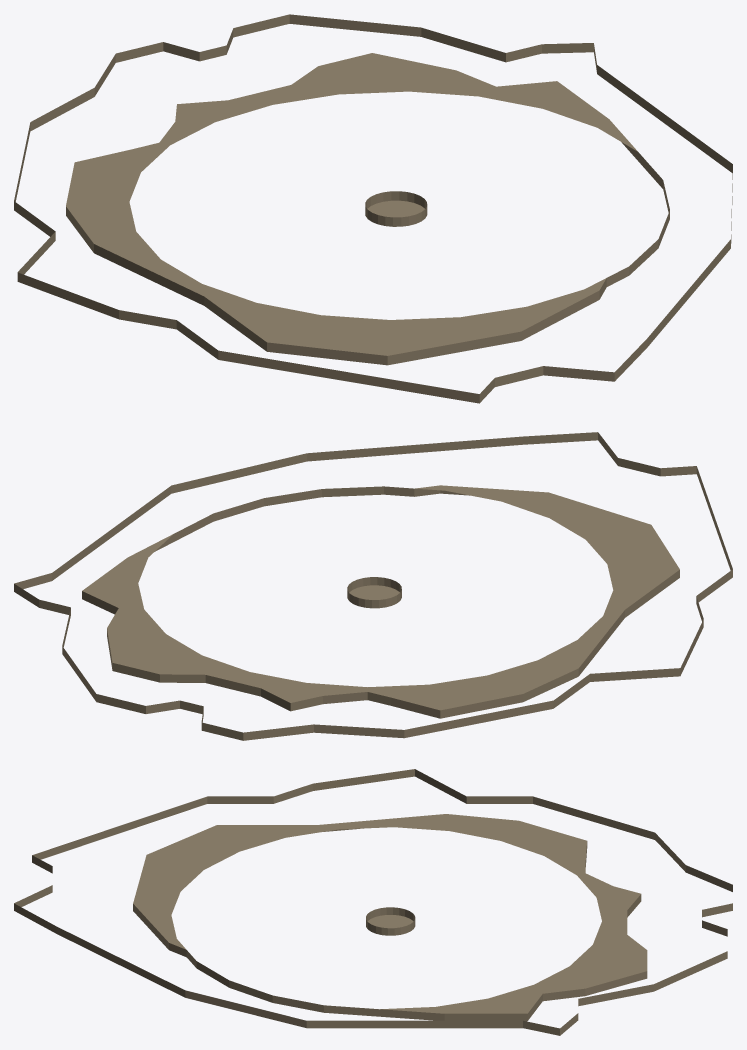
Rendered from New California Fallout 1.dae.
The picture shows the model from 3 angles, top to bottom: view 1: azimuth 30°, elevation 25°; view 2: azimuth 150°, elevation 25°; view 3: azimuth 270°, elevation 25°; orthographic projection. The views are drawn at different scales.
Visible parts, largest first — view 1: SketchUp (×3); view 2: SketchUp (×3); view 3: SketchUp (×3).
Boxes of the visible parts, left/top/right/bottom form: SketchUp (×3): left=14, top=14, right=732, bottom=403; SketchUp (×3): left=14, top=432, right=732, bottom=740; SketchUp (×3): left=14, top=769, right=732, bottom=1035.
Size of what is drawn, in the model's own units: 29.17 by 34.16 by 0.7874.
